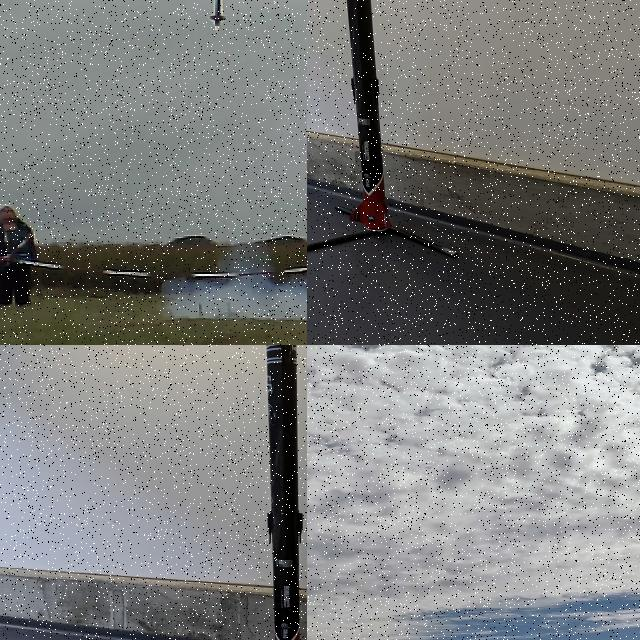Rocket: (266, 345, 303, 640), (346, 0, 392, 232), (208, 0, 226, 27)
